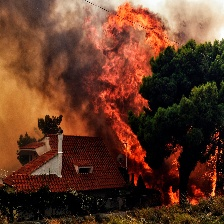fire: (96, 11, 220, 201)
smoke: (1, 2, 108, 119)
